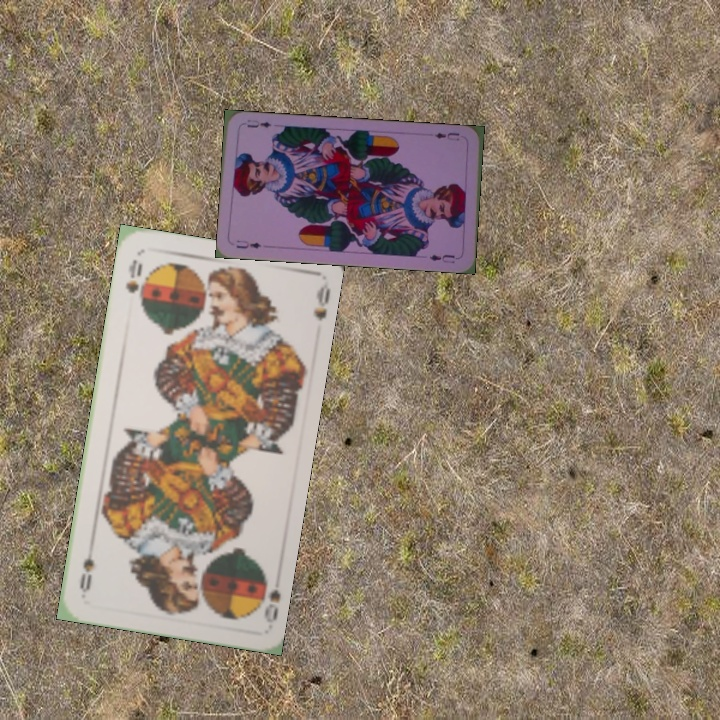EU: (232, 236, 264, 251), (431, 128, 462, 143)
SO: (252, 566, 283, 625), (121, 255, 145, 302)
